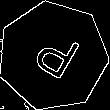P_SW: (24, 25, 82, 87)
